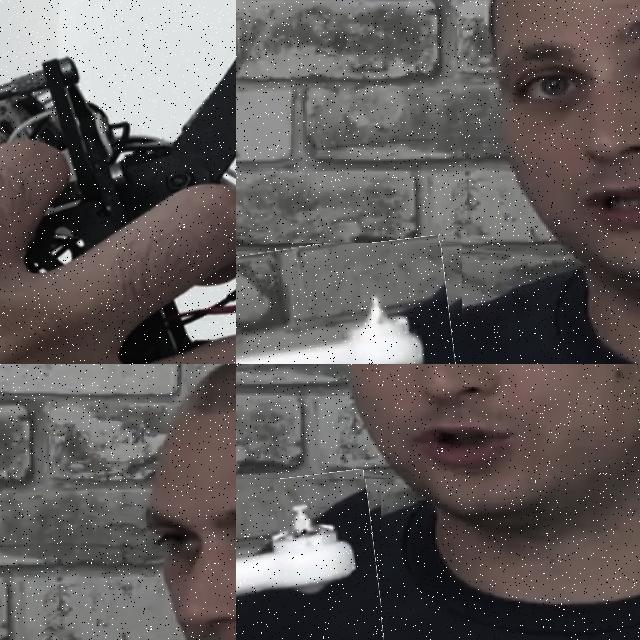drone: (0, 0, 236, 364), (236, 243, 462, 364), (236, 479, 381, 640)
